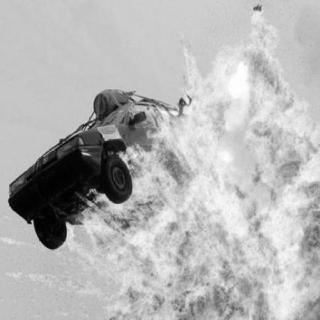Fire: (86, 6, 313, 316)
